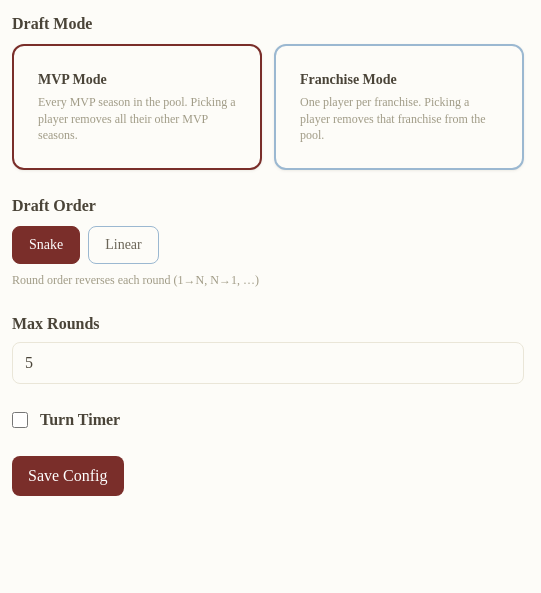
Test: DraftConfigPanel › turn timer toggle › hides the turn duration input again when the timer is disabled
The image size is (541, 593).
Click the checkbox labelled "Turn Timer" at x=20, y=420, box [12,412,28,428]
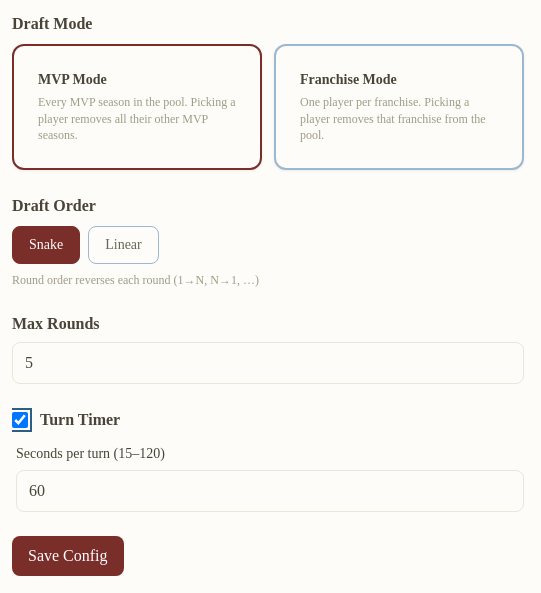
Click the checkbox labelled "Turn Timer" at x=20, y=420, box [12,412,28,428]
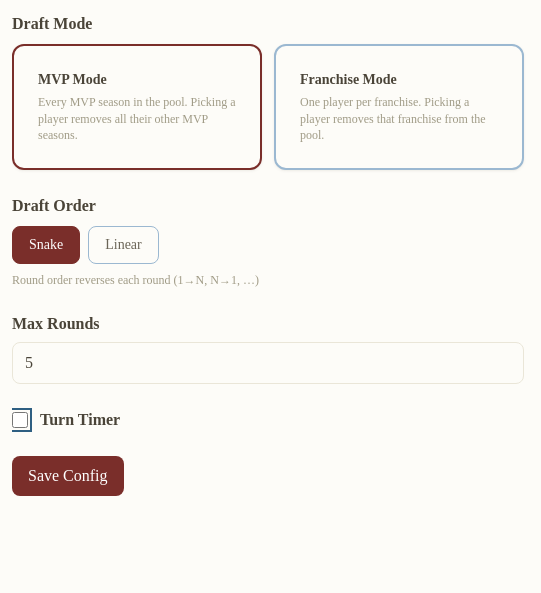
Result: the label labelled "Seconds per turn (15–120)" is gone
